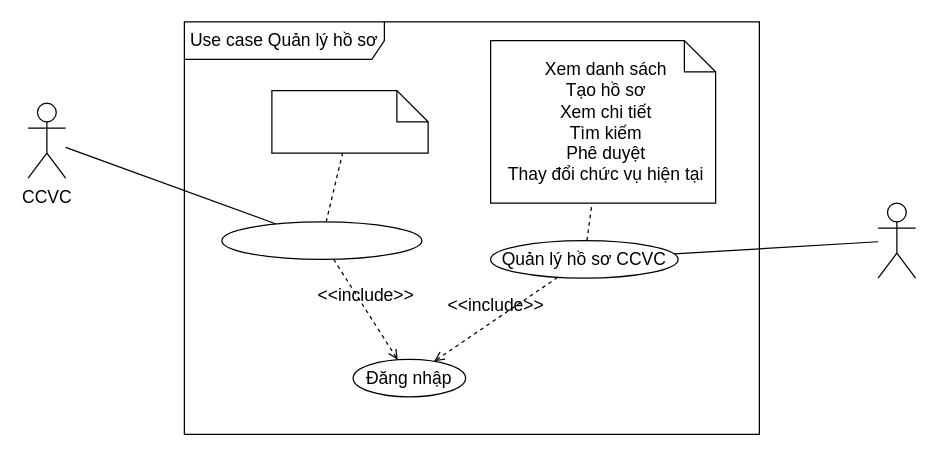
Some shapes in this 943 by 456 pixel diagram are drawn without their labels. Each missing label, with the box of its shape:
Admin: (877, 202, 916, 278)
Quản lý hồ sơ cá nhân: (221, 221, 422, 259)
Xem thông tin Cập nhật: (271, 89, 428, 153)
